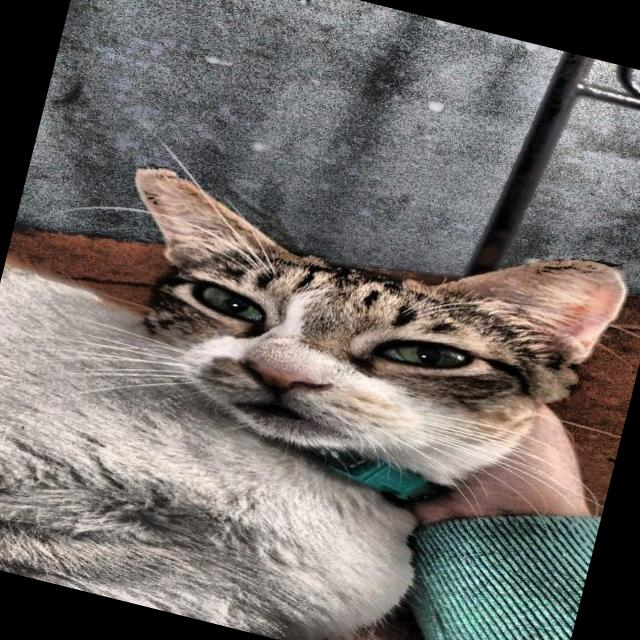Healthy skin: (119, 145, 636, 382), (26, 304, 367, 524)
